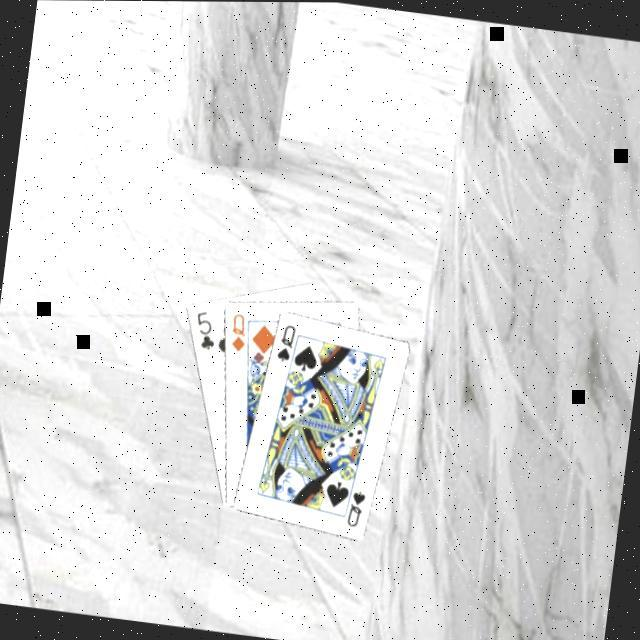5C: (187, 305, 219, 352)
QD: (223, 307, 250, 353)
QS: (272, 318, 298, 364), (342, 484, 368, 528)
